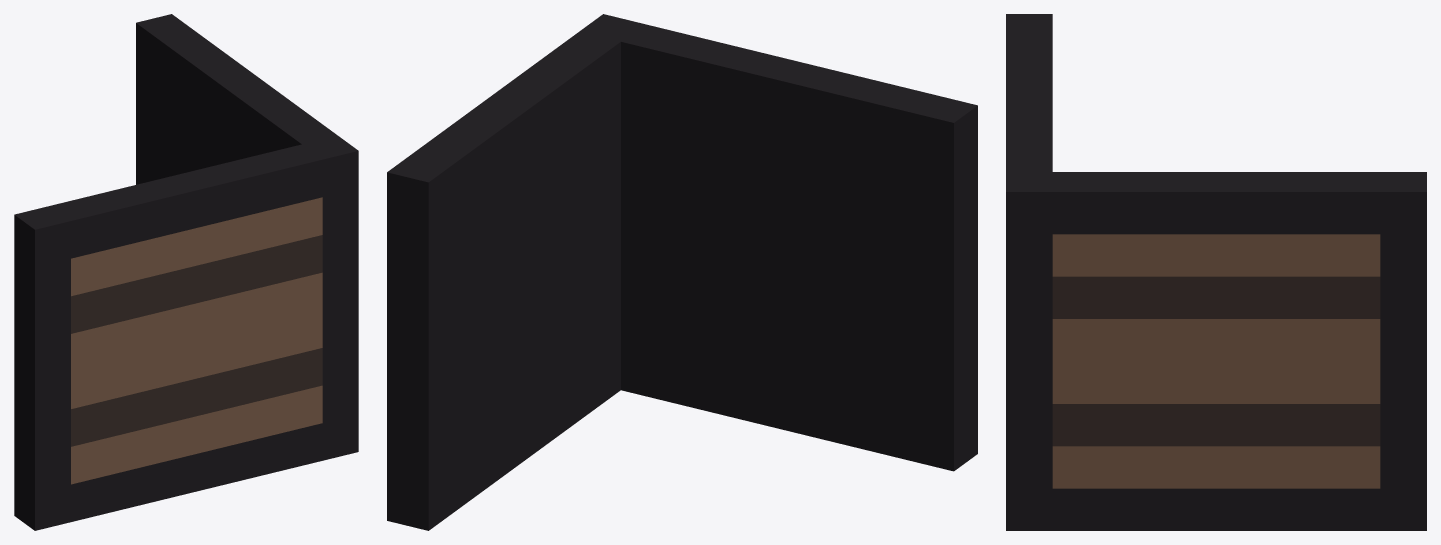
Rendered from martyr_BracerR.glb.
The picture shows the model from 3 angles, left to right: view 1: azimuth 30°, elevation 25°; view 2: azimuth 150°, elevation 25°; view 3: azimuth 270°, elevation 25°; orthographic projection. The views are drawn at different scales.
Visible parts, largest first — view 1: martyr_BracerR; view 2: martyr_BracerR; view 3: martyr_BracerR.
Part boxes in pixels (left/top/right/bottom): martyr_BracerR: left=14, top=14, right=358, bottom=530; martyr_BracerR: left=387, top=14, right=977, bottom=530; martyr_BracerR: left=1006, top=14, right=1426, bottom=530.
Bounding box in the file's own units: 1.12 × 1 × 1.12.
Materials: 1 (1 with a texture image).
